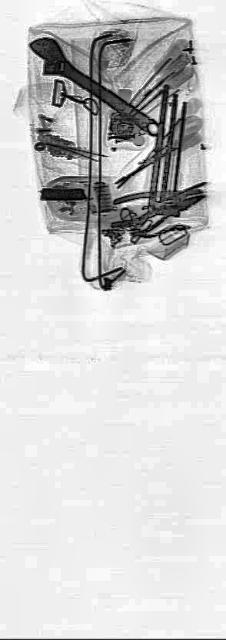Pliers: (109, 176, 203, 230)
Wrench: (26, 22, 164, 152)
